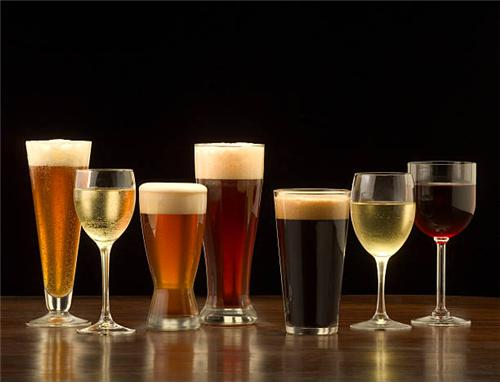alcohol: (194, 144, 263, 326), (24, 138, 89, 327), (408, 160, 477, 328), (271, 187, 348, 337), (347, 174, 416, 336), (74, 168, 137, 334), (138, 183, 206, 331)
